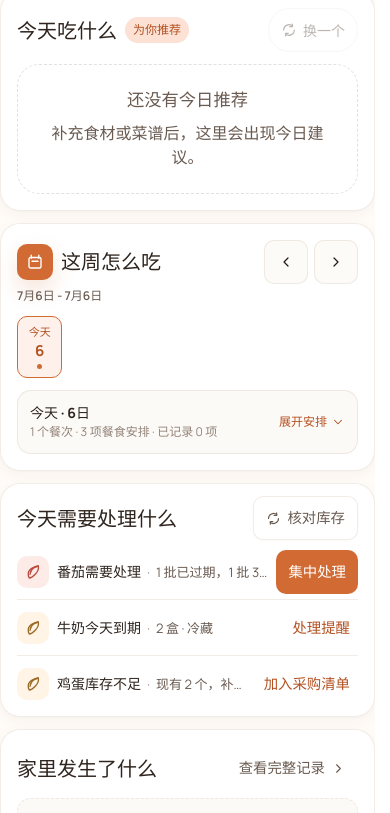
Test: HomeMobileDashboard three-question mobile › shows two planned foods before collapsing the remaining mobile meal items
(page scrolled)
Click the button with aria-label "展开当天安排": [188, 422] box [17, 390, 358, 454]
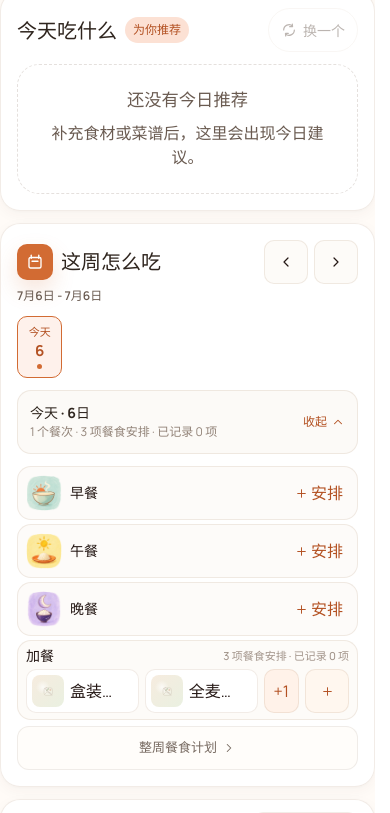
Check: the button "盒装牛奶" is shown, box [26, 669, 139, 713]
Check: the button "全麦面包" is shown, box [145, 669, 258, 713]
Check: the button "+1" is shown, box [264, 669, 299, 713]
